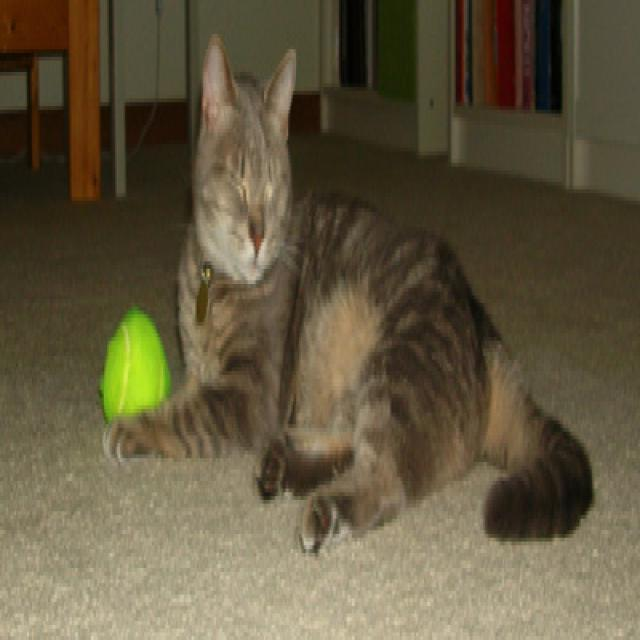cat: (102, 31, 596, 554)
